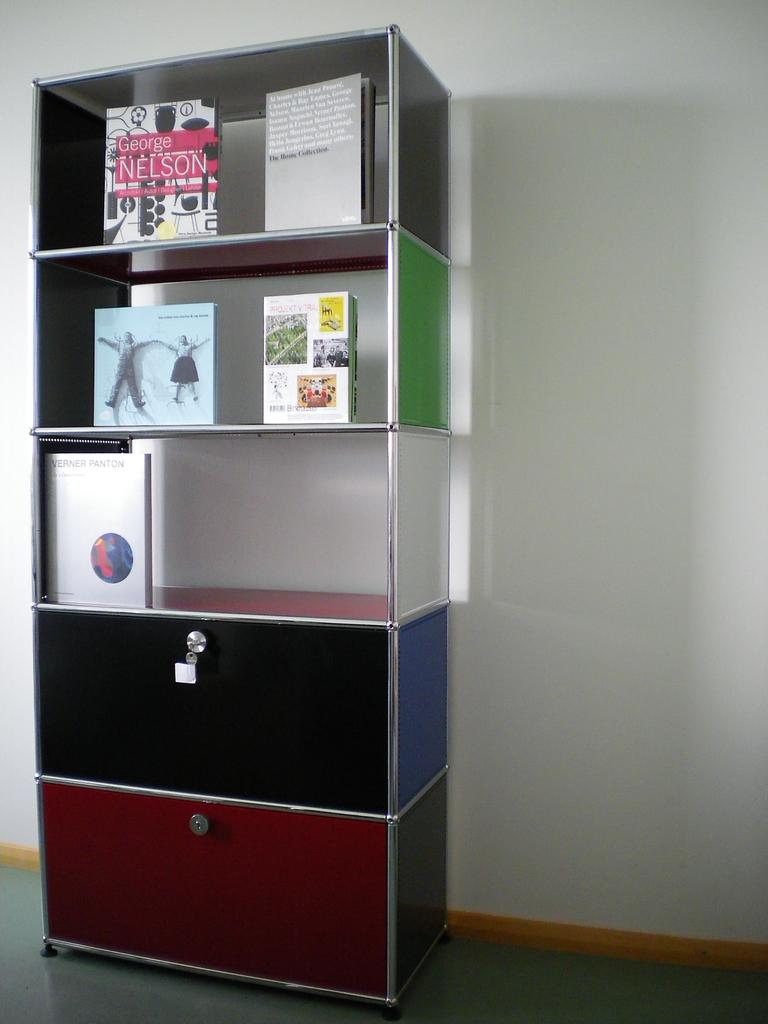cabinet door: (43, 788, 382, 973), (40, 617, 379, 801)
handle: (175, 633, 203, 703), (194, 794, 214, 858)
